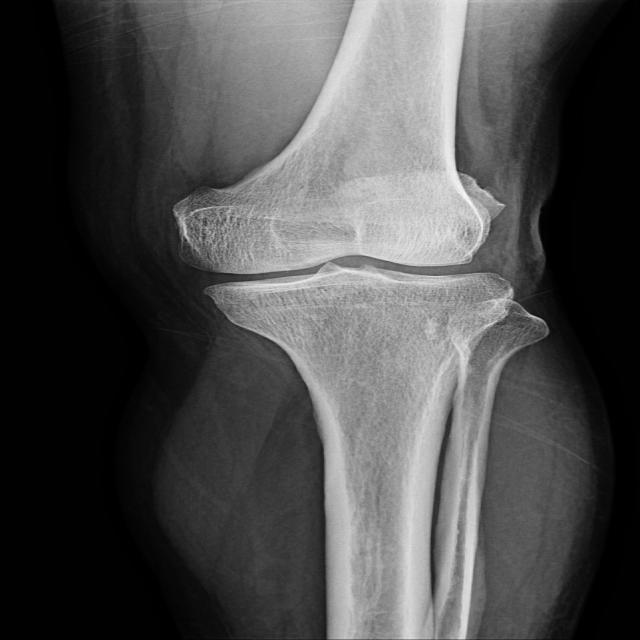osteo: (167, 180, 527, 320)
